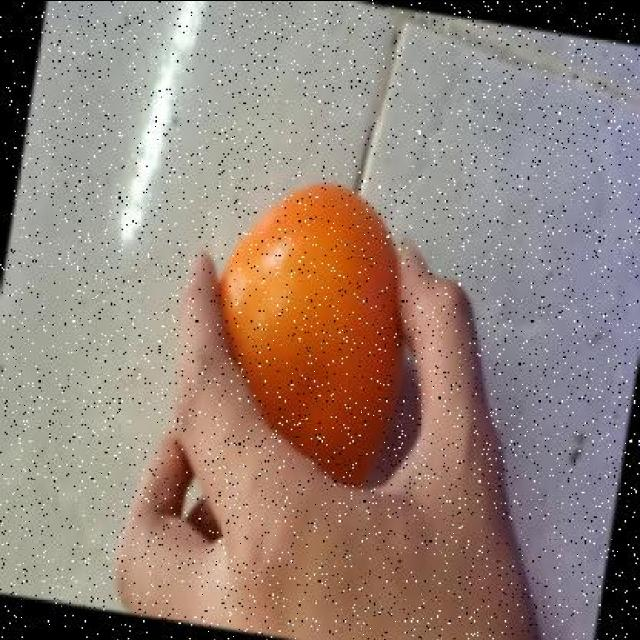Orange: (215, 182, 412, 490)
